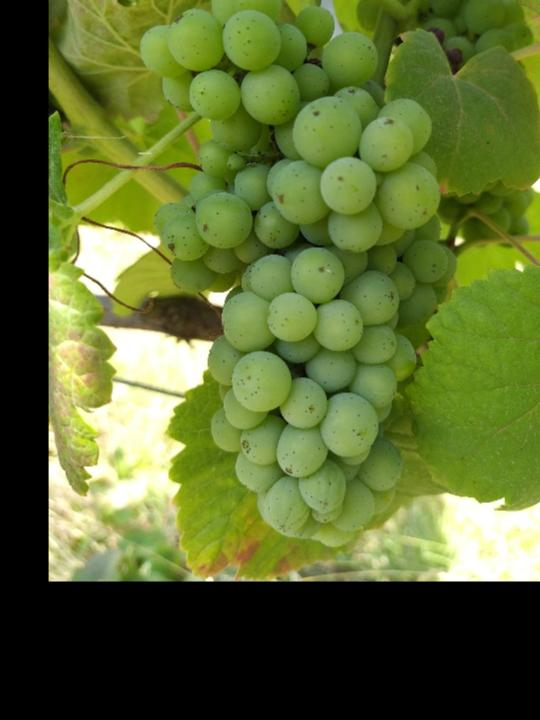grape: (140, 0, 460, 552)
